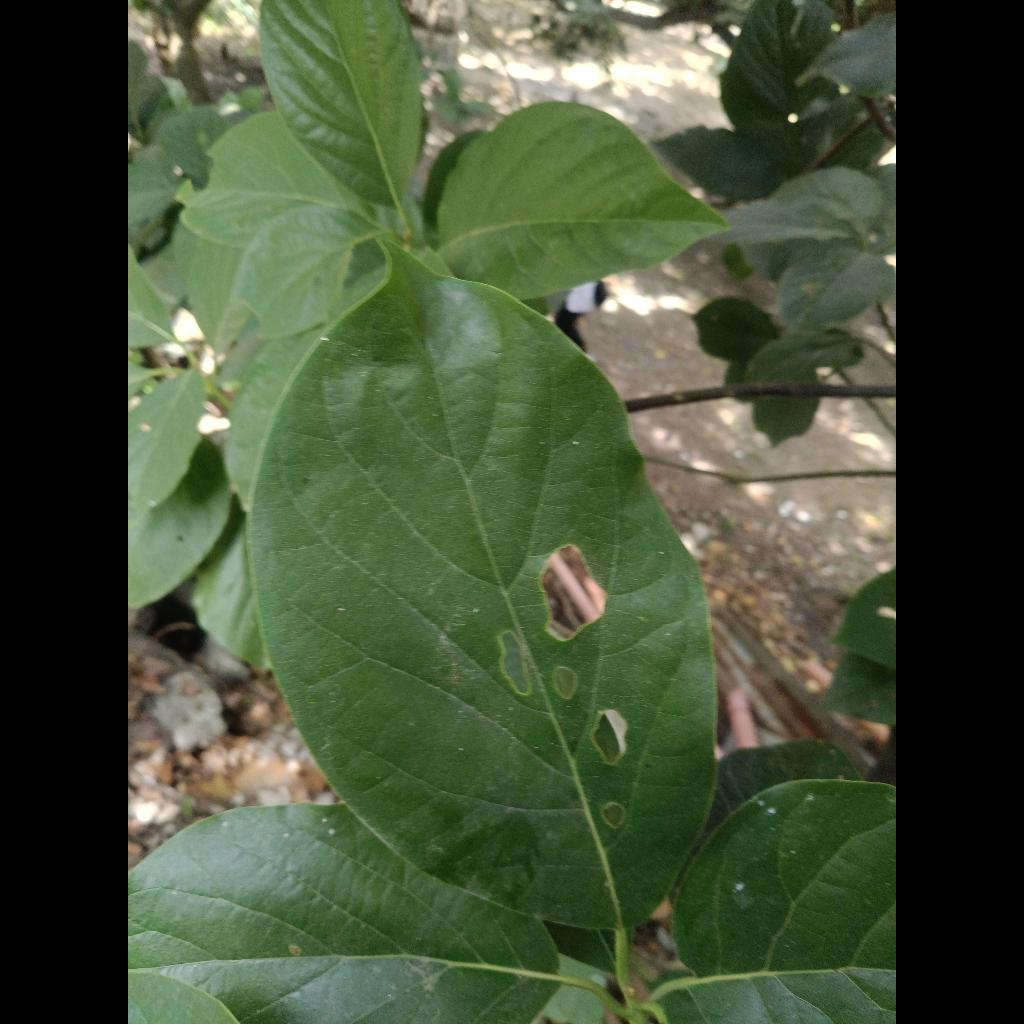Pest Infested: (252, 254, 712, 928)
